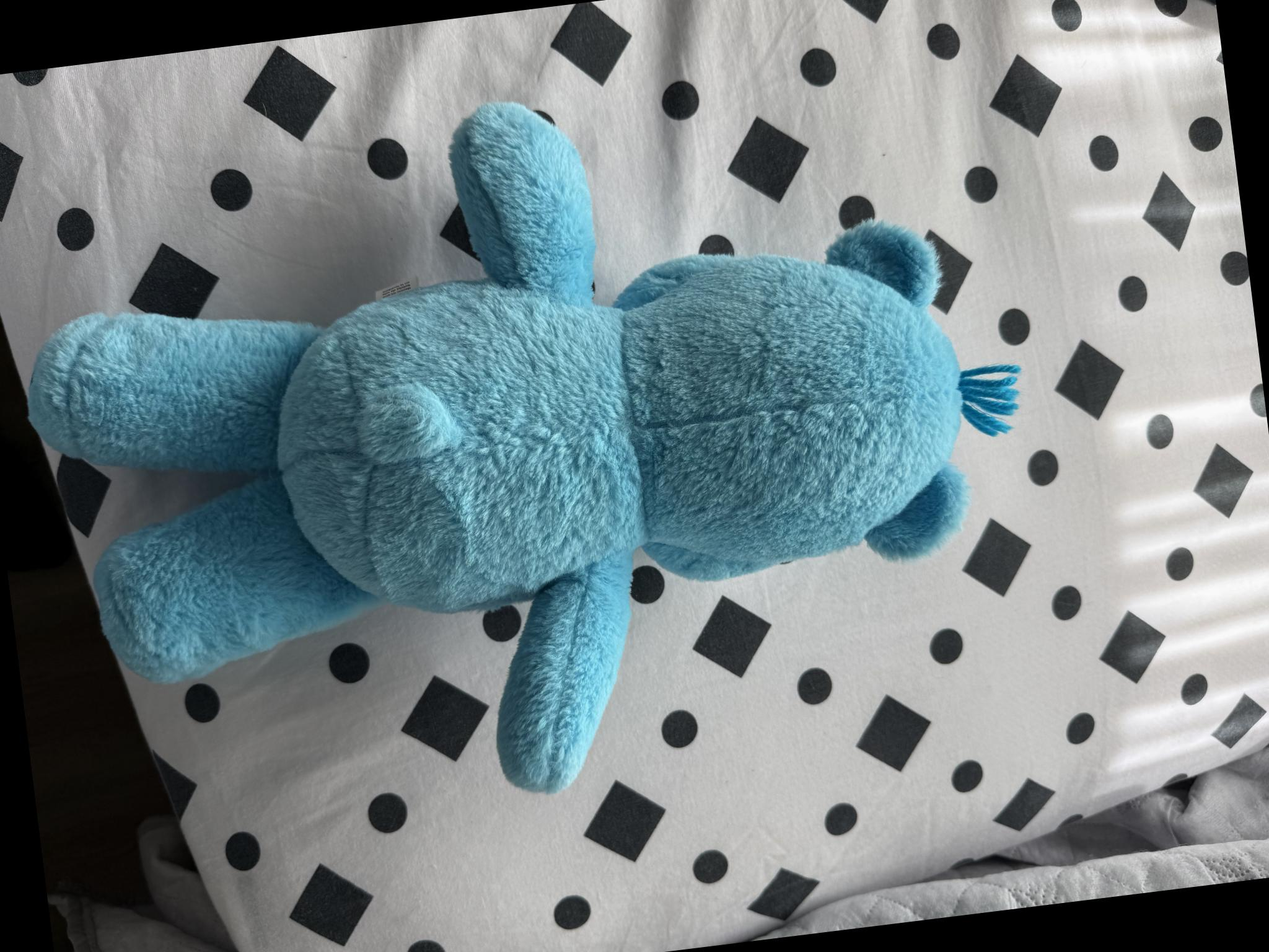peluche_Juan Jose: (0, 46, 1054, 845)
